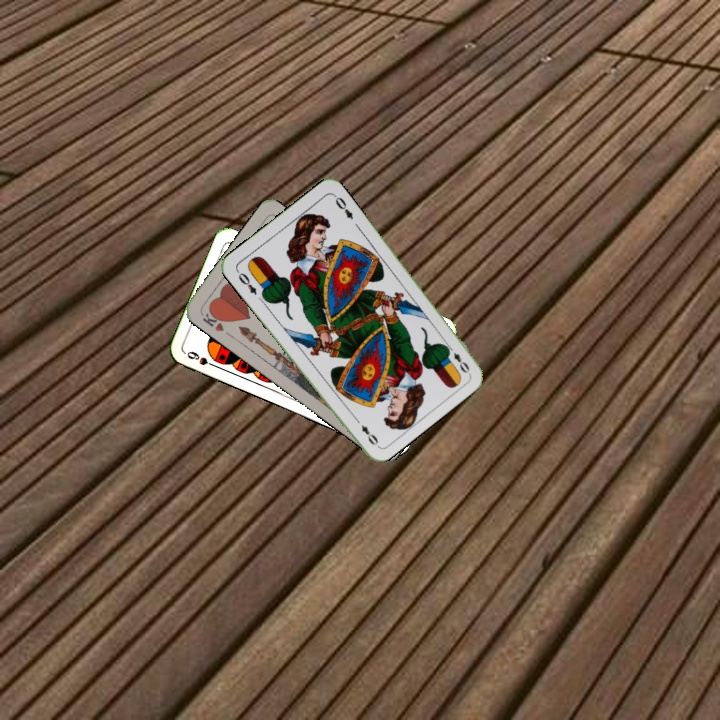EO: (442, 341, 472, 376), (232, 266, 259, 297)
HK: (198, 306, 228, 334)
S9: (183, 347, 221, 370)
